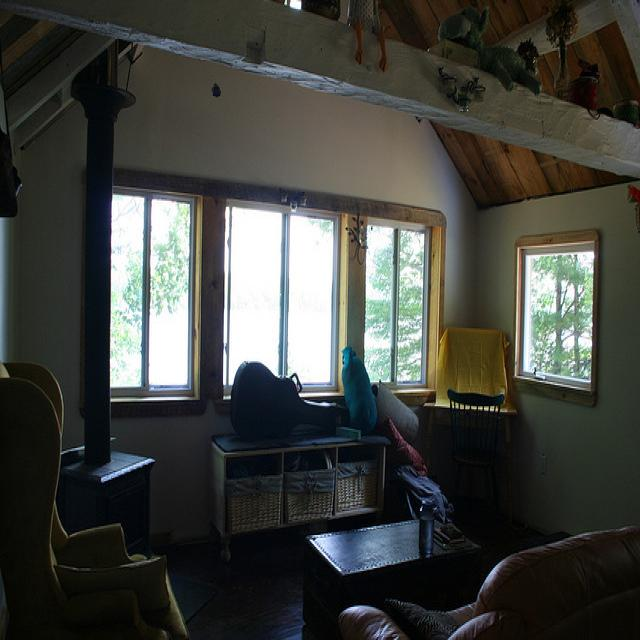Table: (200, 412, 398, 532), (299, 507, 488, 620)
chair: (1, 352, 209, 640), (418, 510, 640, 640), (446, 378, 511, 519)
